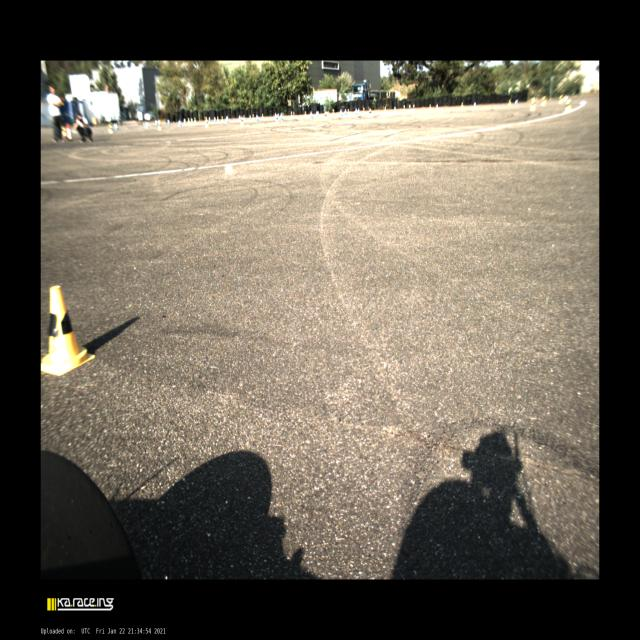yellow_cone: (41, 286, 95, 376)
